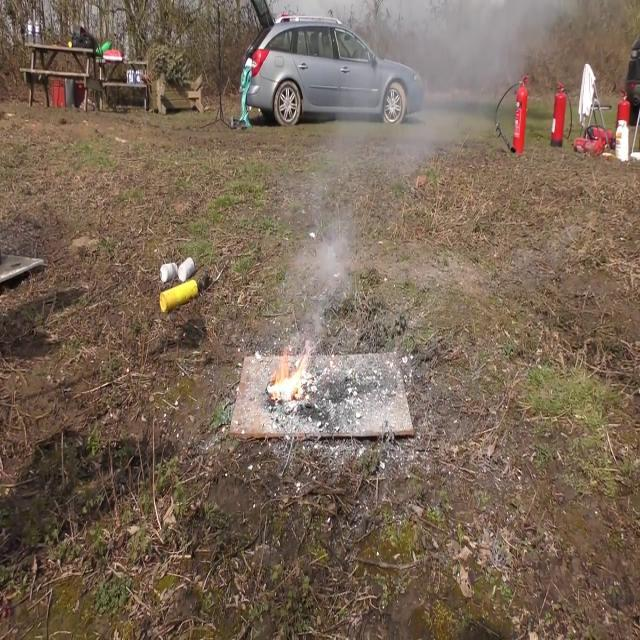Fire: (268, 346, 314, 404)
Smoke: (377, 0, 541, 156), (294, 196, 359, 330)
